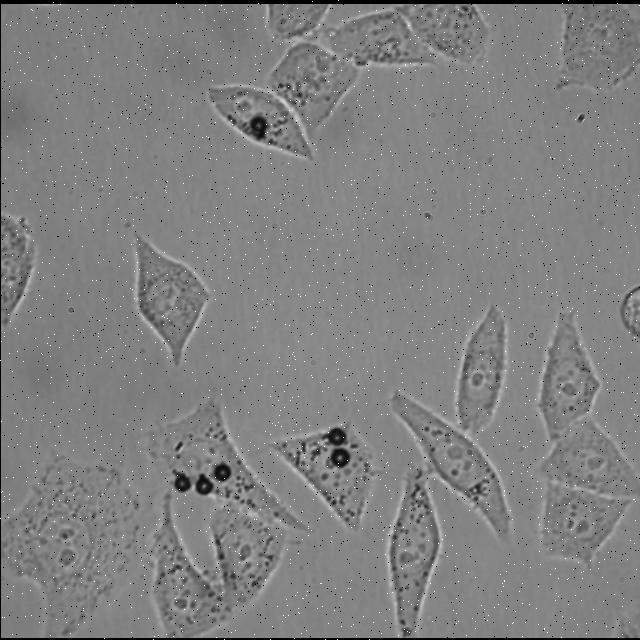microbeads: (191, 474, 213, 498), (324, 426, 350, 446), (328, 446, 349, 468), (245, 114, 268, 130), (172, 474, 190, 494), (212, 462, 230, 482)
